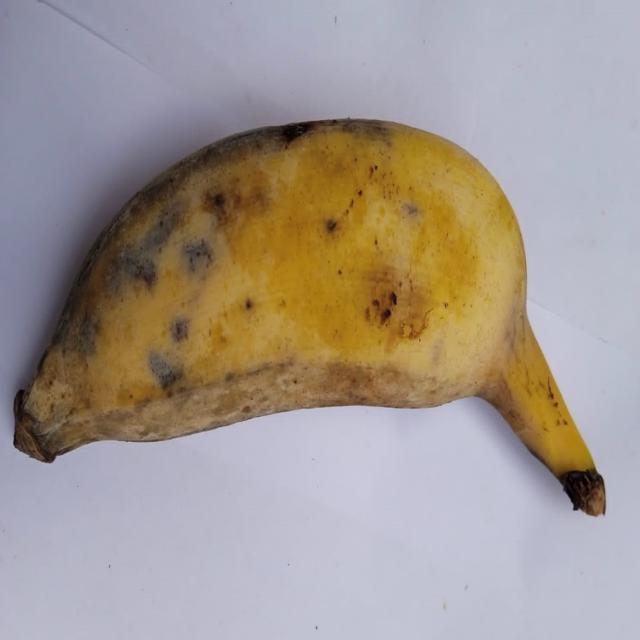banana: (15, 120, 605, 514)
